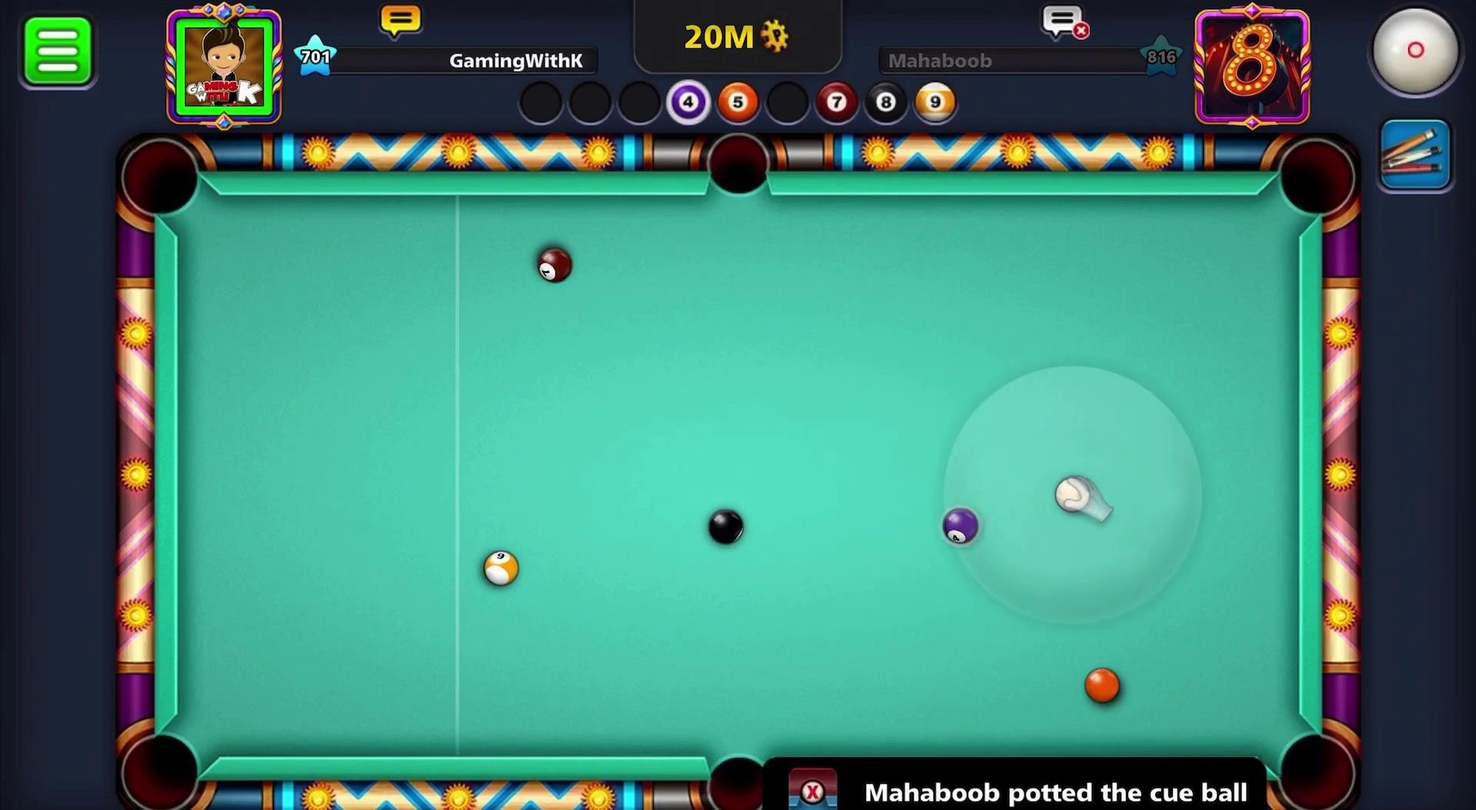Ball: (697, 503, 753, 550), (476, 543, 525, 590), (1081, 662, 1128, 705), (529, 245, 575, 285), (940, 505, 981, 546)
Hole: (1263, 712, 1364, 809), (1268, 132, 1364, 230), (113, 131, 205, 224), (115, 727, 205, 809), (695, 736, 776, 809), (703, 124, 775, 199)
Play_Area: (176, 195, 1301, 758)
Spin: (1348, 0, 1475, 114)
White: (1051, 464, 1095, 517)
